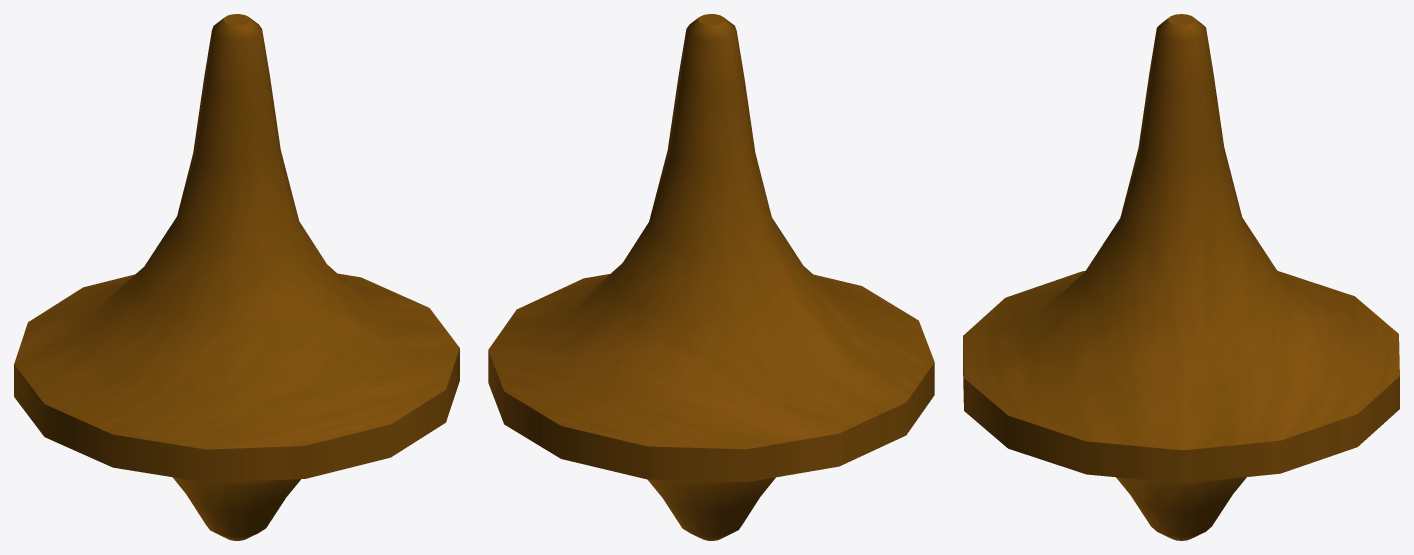
File: SpinningTop.fbx
3 renders of one model, left to right at view 1: azimuth 30°, elevation 25°; view 2: azimuth 150°, elevation 25°; view 3: azimuth 270°, elevation 25°, orthographic.
Visible parts, largest first — view 1: SpinningTop; view 2: SpinningTop; view 3: SpinningTop.
Part boxes in pixels (<box>): SpinningTop: <box>14,14,459,540</box>; SpinningTop: <box>488,14,934,540</box>; SpinningTop: <box>963,14,1399,540</box>.
Size of the model in its own units: 1.94 by 2.47 by 1.9.
1 material, 1 textured.
